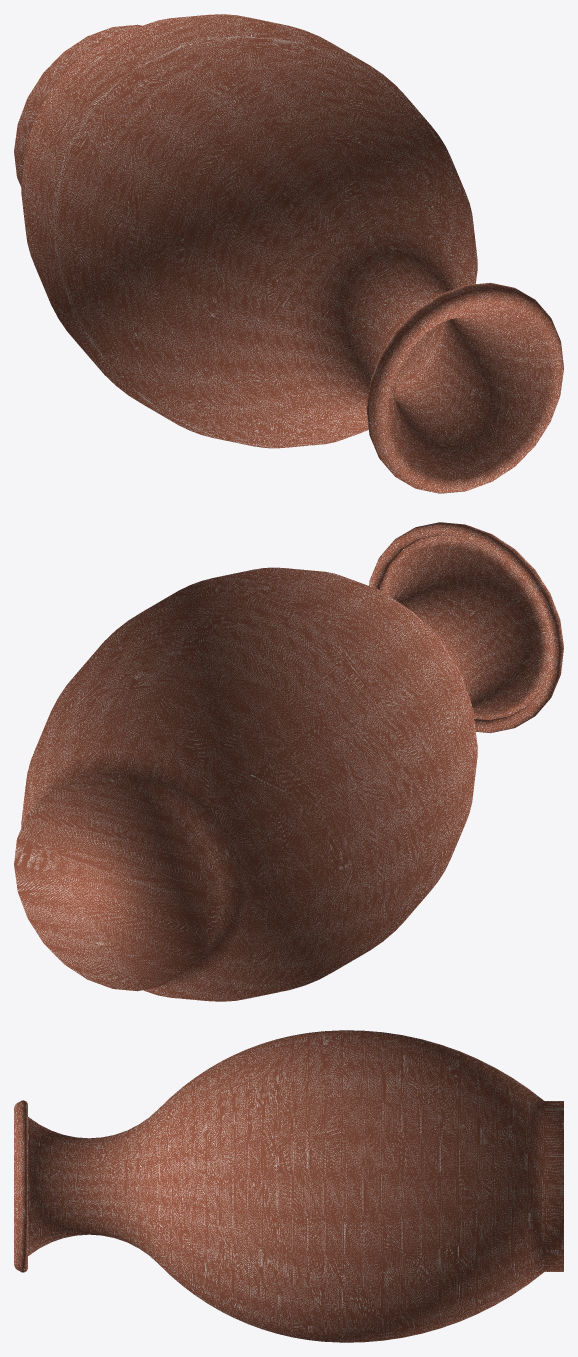
Rendered from model_align.obj.
3 renders of one model, top to bottom at view 1: azimuth 30°, elevation 25°; view 2: azimuth 150°, elevation 25°; view 3: azimuth 270°, elevation 25°, orthographic. The views are drawn at different scales.
Visible parts, largest first — view 1: mesh1_mesh1-geometry; view 2: mesh1_mesh1-geometry; view 3: mesh1_mesh1-geometry.
Part boxes in pixels (x1=…): mesh1_mesh1-geometry: x1=14, y1=14, x2=563, y2=493; mesh1_mesh1-geometry: x1=14, y1=522, x2=563, y2=1001; mesh1_mesh1-geometry: x1=14, y1=1030, x2=563, y2=1342.
Size of the model in its own units: 0.1132 by 0.1132 by 0.1988.
